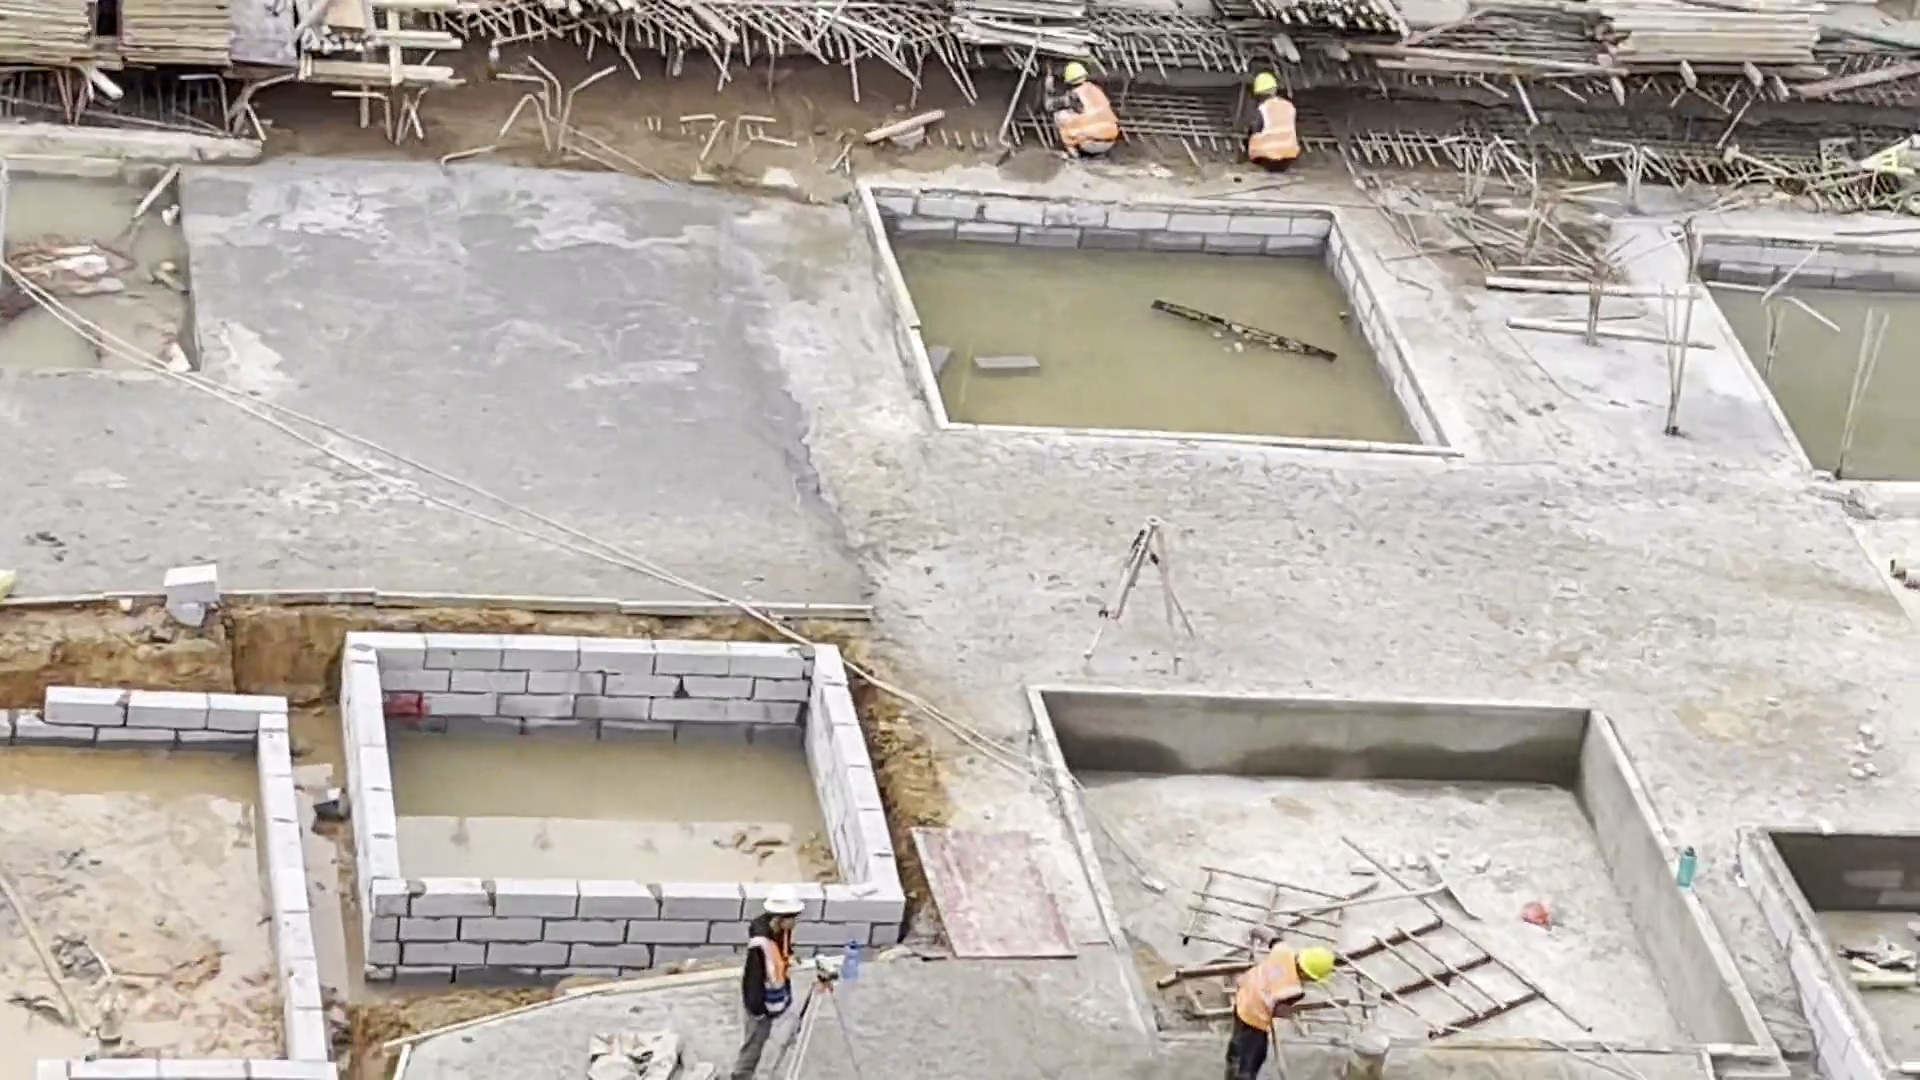helmet: (1294, 940, 1341, 982), (759, 885, 808, 918), (1242, 64, 1287, 94), (1054, 59, 1099, 85)
person: (1236, 912, 1338, 1080), (738, 884, 802, 1080), (1045, 55, 1133, 167), (1235, 67, 1309, 175)
vest: (1238, 937, 1299, 1045), (745, 931, 801, 1017), (1055, 87, 1124, 146), (1250, 99, 1305, 159)
